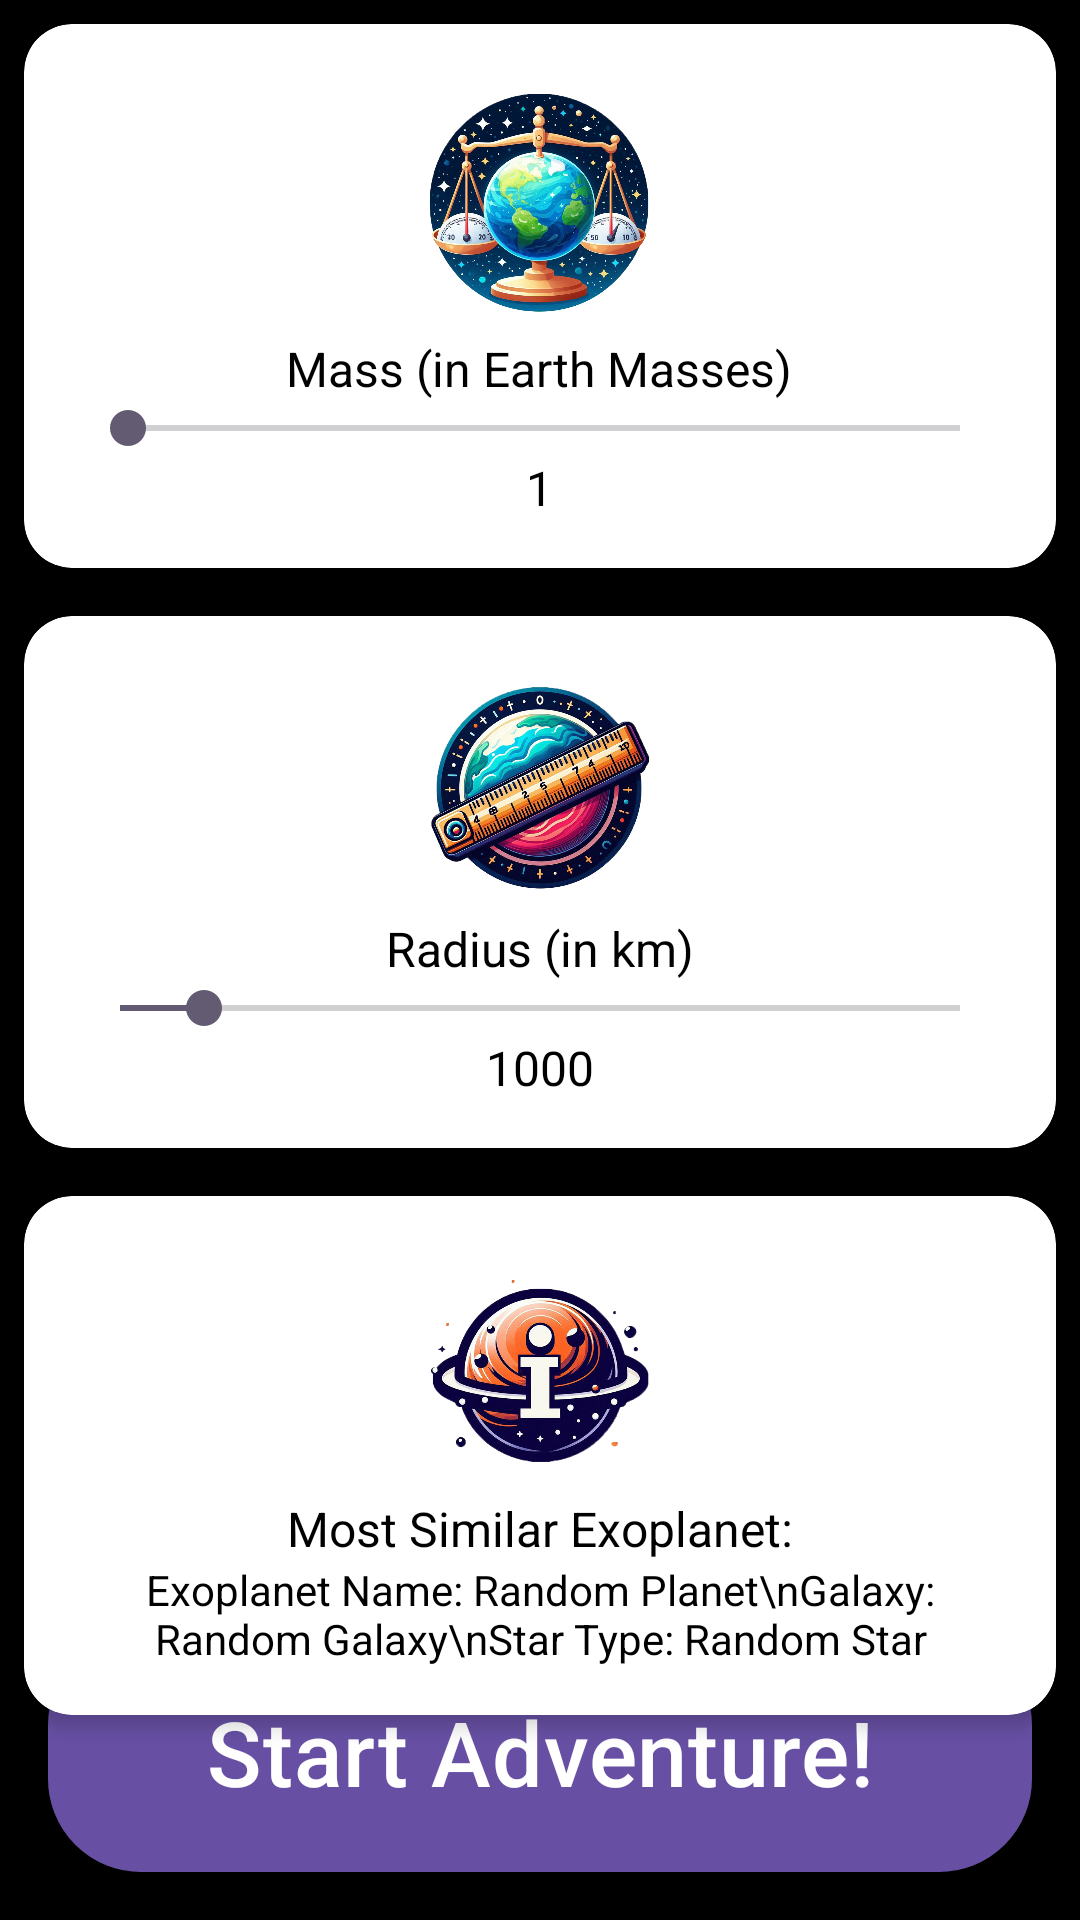

Screen size 1080 x 1920. Icon name, then its box in pixels as (x1, y1, x2, y2):
info slider: (431, 1280, 649, 1462)
rule slider: (431, 687, 649, 889)
